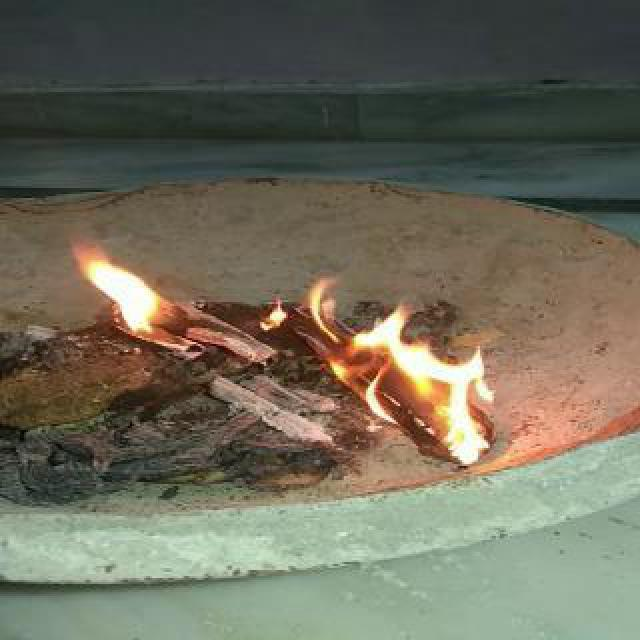zfire: (62, 242, 498, 462)
